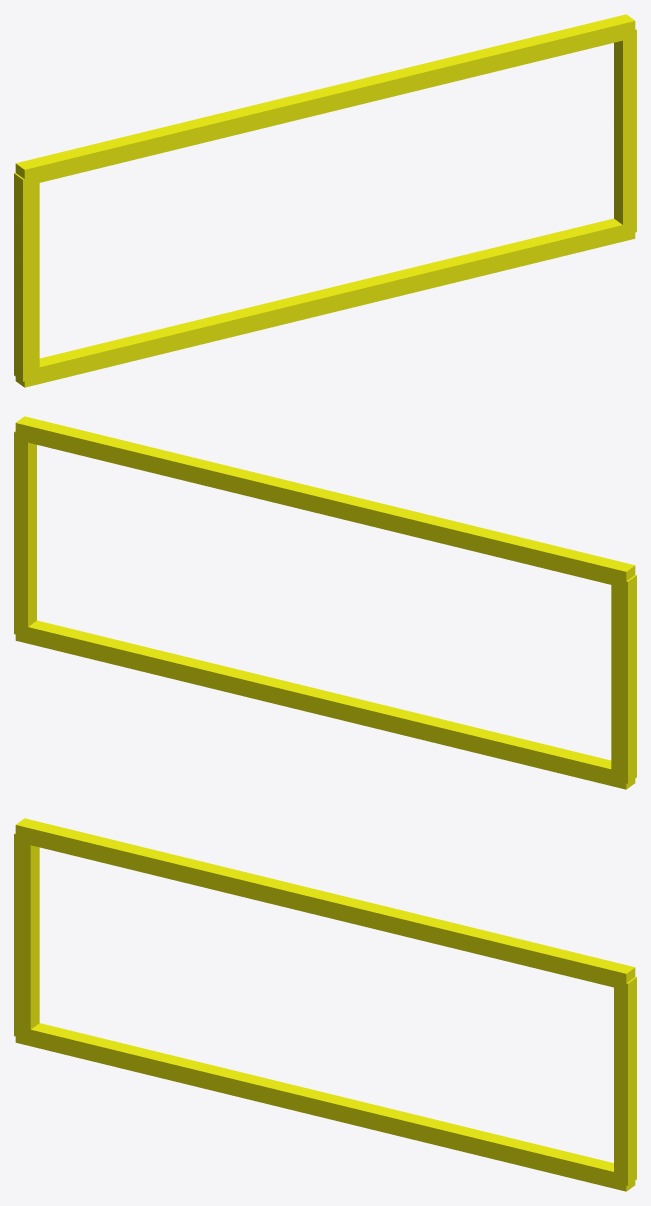
File: selector_rect_3d.glb
3 renders of one model, top to bottom at view 1: azimuth 30°, elevation 25°; view 2: azimuth 150°, elevation 25°; view 3: azimuth 330°, elevation 25°, orthographic.
Parts seen in each view (by area): view 1: selector_rect_3d; view 2: selector_rect_3d; view 3: selector_rect_3d.
Part boxes in pixels (x1,y1,x2,y2): selector_rect_3d: [14, 14, 636, 387]; selector_rect_3d: [14, 416, 636, 789]; selector_rect_3d: [14, 818, 636, 1191].
Bounding box in the file's own units: 3.53 × 1.2 × 0.0897.
